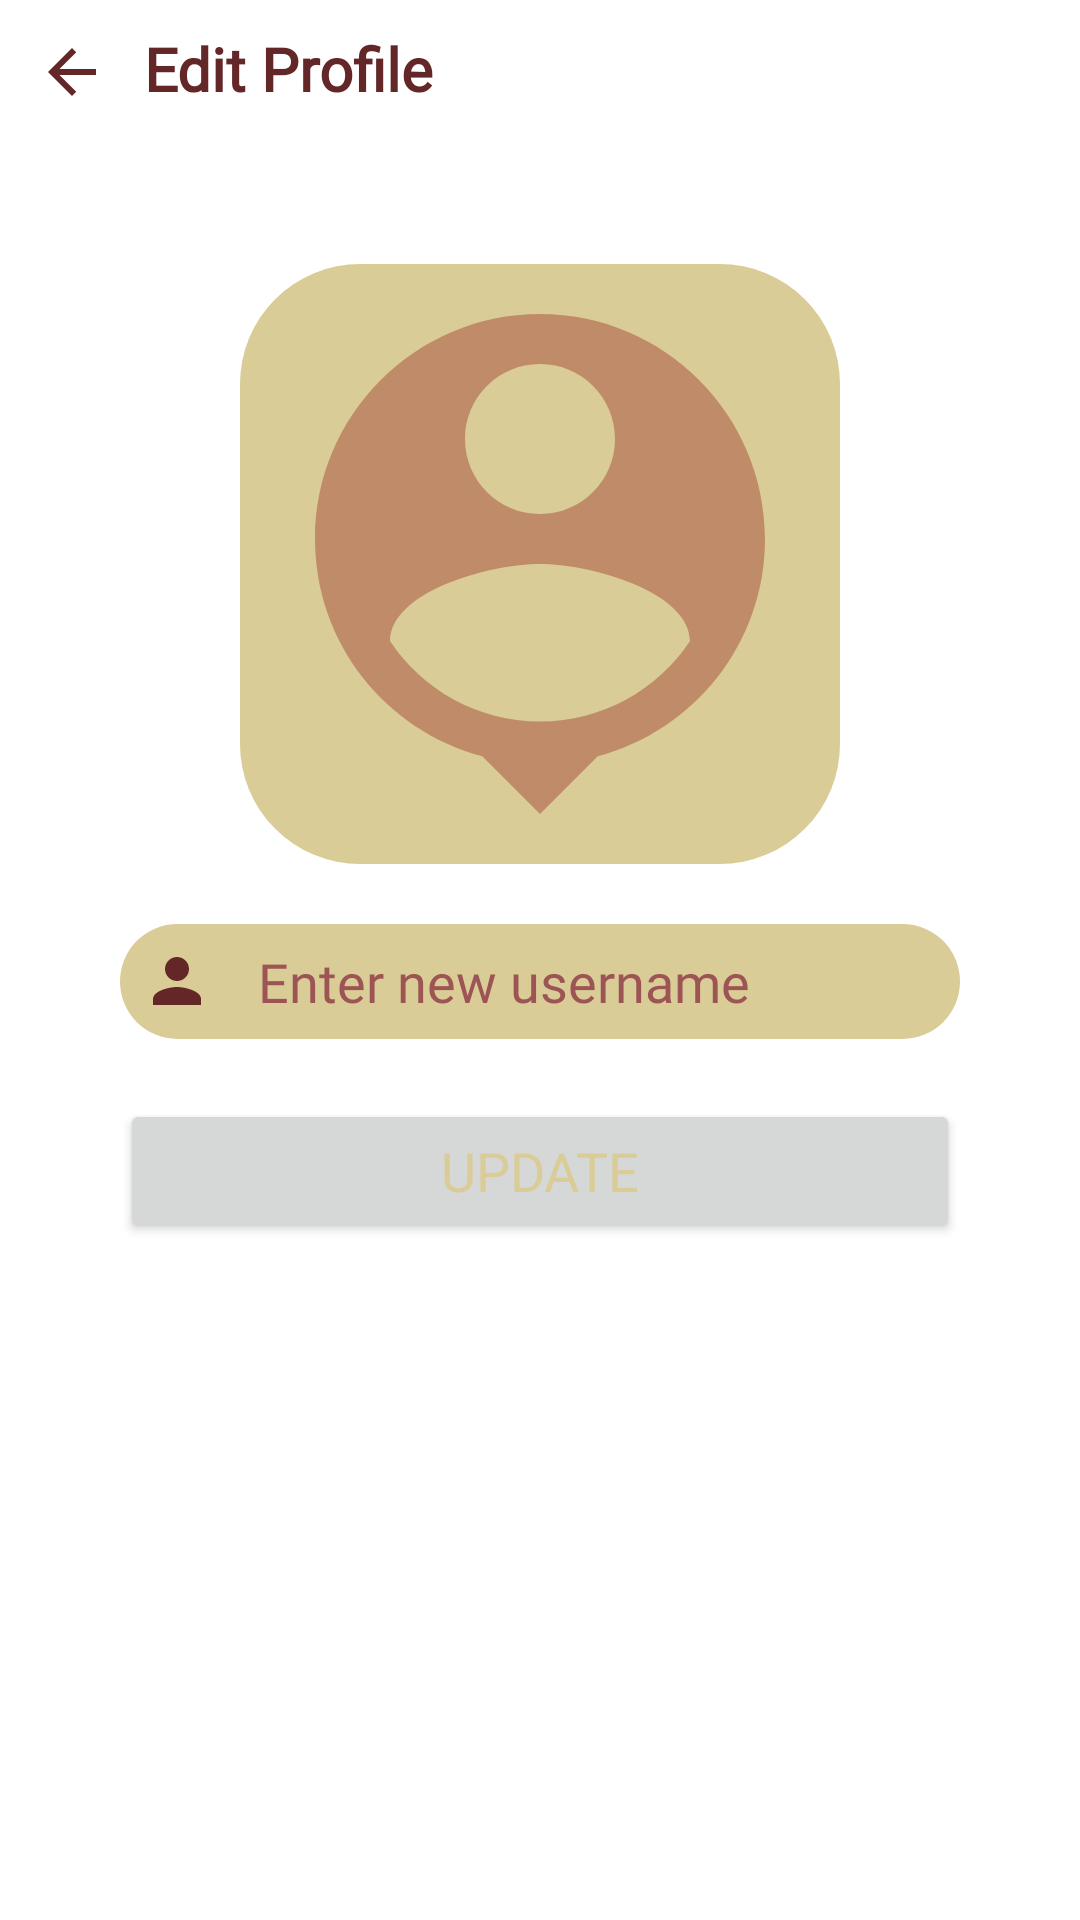

Named icons in this screenshot (1080 x 1920) and their bounding boxes, [x1,y1,x2,y2]:
back: [48,48,96,96]
